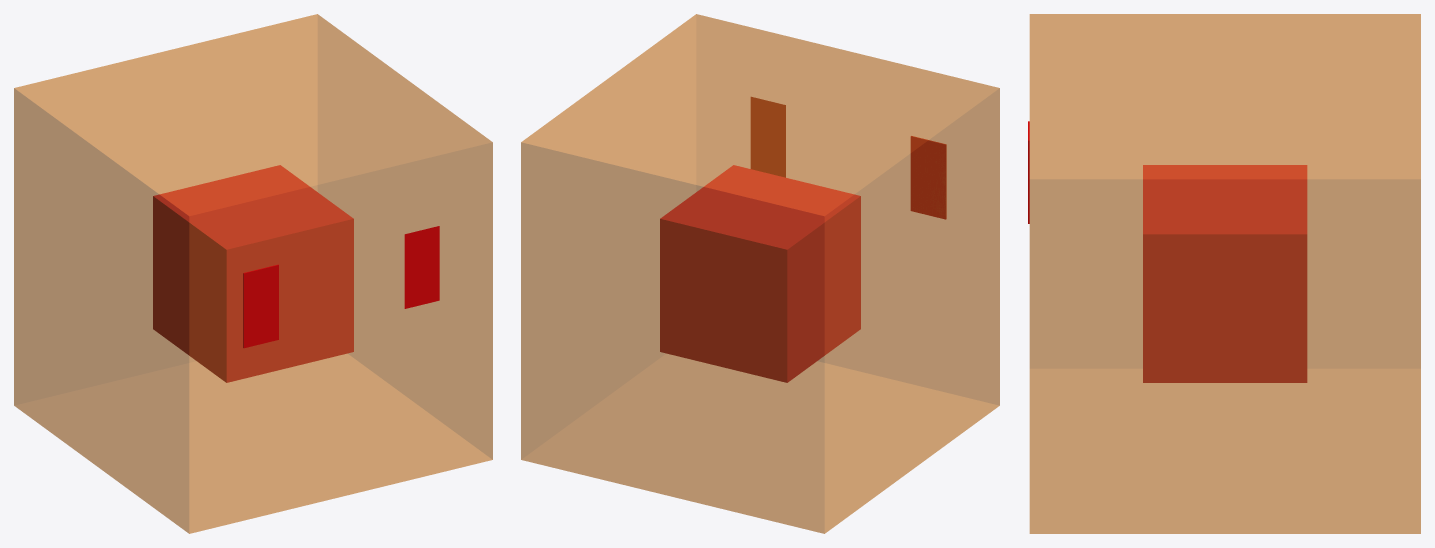
Rendered from enemigo buenio.fbx.
The picture shows the model from 3 angles, left to right: view 1: azimuth 30°, elevation 25°; view 2: azimuth 150°, elevation 25°; view 3: azimuth 270°, elevation 25°; orthographic projection. The views are drawn at different scales.
Visible parts, largest first — view 1: Cube; view 2: Cube; view 3: Cube.
Part boxes in pixels (x1,y1,x2,y2): Cube: [14, 14, 492, 533]; Cube: [521, 14, 999, 533]; Cube: [1028, 14, 1420, 533].
Size of the model in its own units: 268 by 268 by 269.
